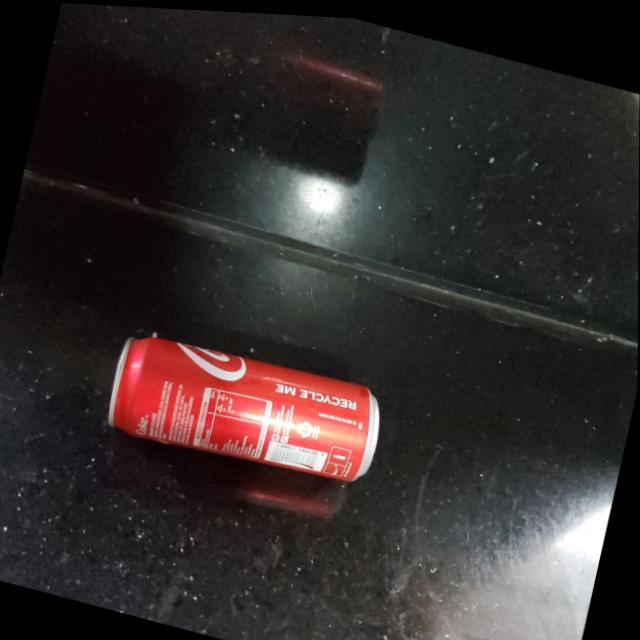coke: (102, 319, 390, 491)
